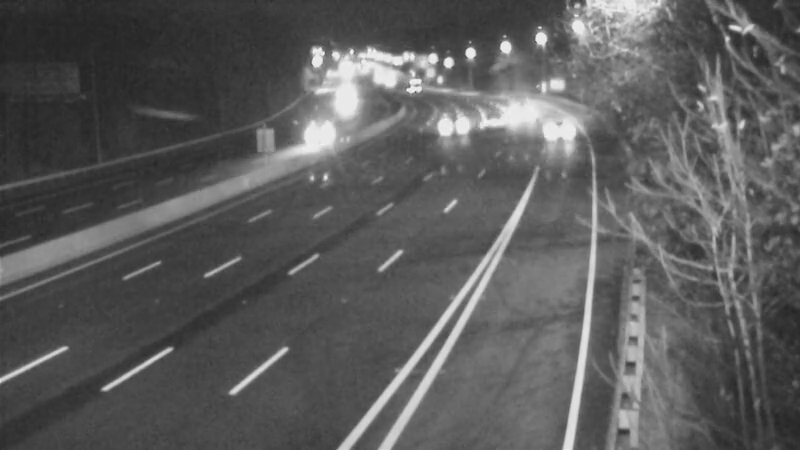vehicle: (393, 61, 443, 111), (490, 86, 540, 136), (535, 104, 585, 154), (467, 93, 517, 143), (426, 99, 476, 149), (288, 117, 338, 167), (320, 67, 370, 117)
